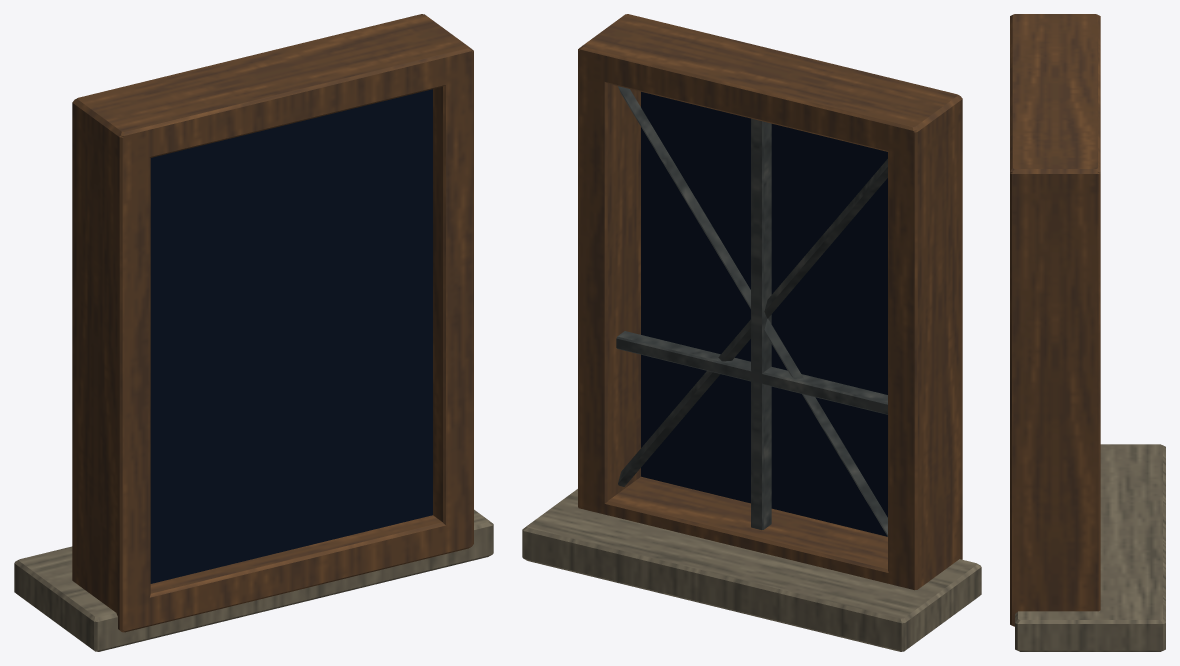
Rendered from WindowFrame.obj.
3 views of the same model, side by side, from view 1: azimuth 30°, elevation 25°; view 2: azimuth 150°, elevation 25°; view 3: azimuth 270°, elevation 25° (orthographic). The views are drawn at different scales.
Parts seen in each view (by area): view 1: Window_TimberLeadedGlass; view 2: Window_TimberLeadedGlass; view 3: Window_TimberLeadedGlass.
Boxes of the visible parts, box(x1,y1,x2,y2) form: Window_TimberLeadedGlass: box(14, 14, 493, 651); Window_TimberLeadedGlass: box(522, 14, 981, 651); Window_TimberLeadedGlass: box(1010, 14, 1165, 651).
Bounding box in the file's own units: 0.84 × 1.04 × 0.31.
4 materials, 3 textured.
